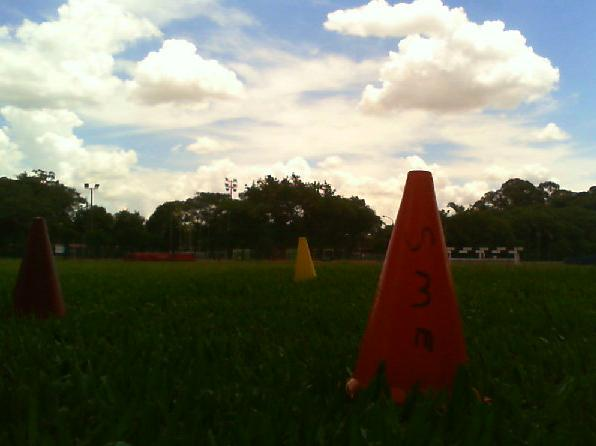0 cone: (353, 170, 482, 407), (10, 217, 67, 319), (293, 236, 317, 283)
